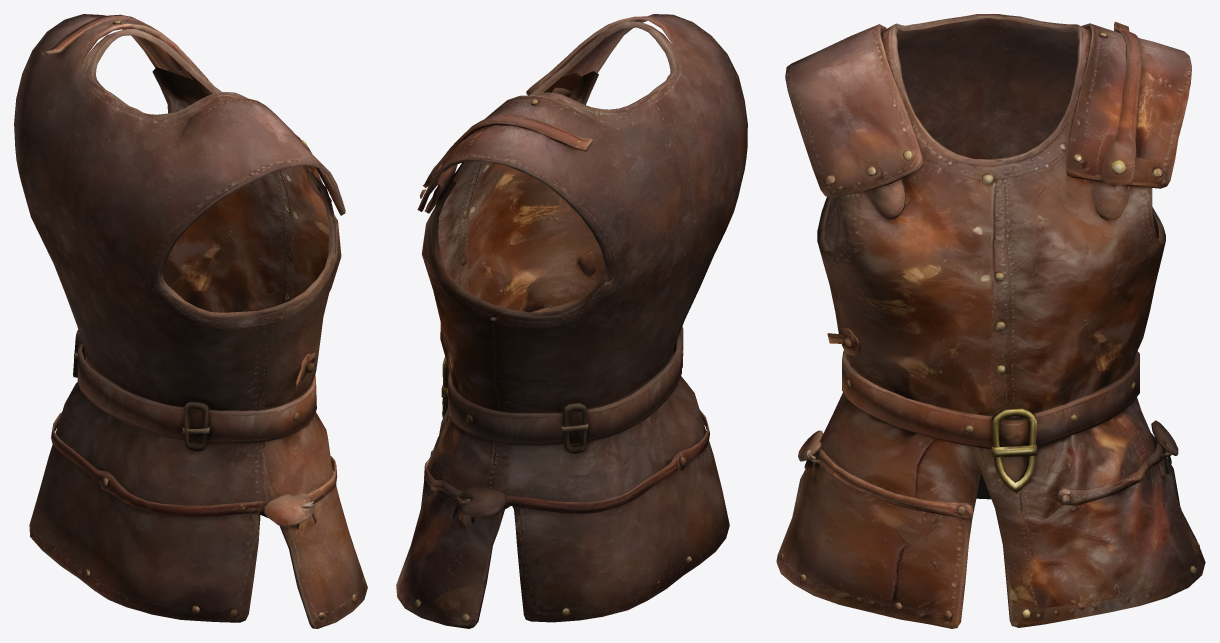
3 renders of one model, left to right at view 1: azimuth 30°, elevation 25°; view 2: azimuth 150°, elevation 25°; view 3: azimuth 270°, elevation 25°, orthographic. The views are drawn at different scales.
Parts seen in each view (by area): view 1: tripo_node_d836b553-2403-4094-9ba9-1580f3f591a3; view 2: tripo_node_d836b553-2403-4094-9ba9-1580f3f591a3; view 3: tripo_node_d836b553-2403-4094-9ba9-1580f3f591a3.
Part boxes in pixels (x1,y1,x2,y2): tripo_node_d836b553-2403-4094-9ba9-1580f3f591a3: (14, 14, 367, 628); tripo_node_d836b553-2403-4094-9ba9-1580f3f591a3: (396, 14, 747, 628); tripo_node_d836b553-2403-4094-9ba9-1580f3f591a3: (776, 14, 1205, 628).
Bounding box in the file's own units: 0.5215 × 0.998 × 0.7402.
Materials: 1 (1 with a texture image).
